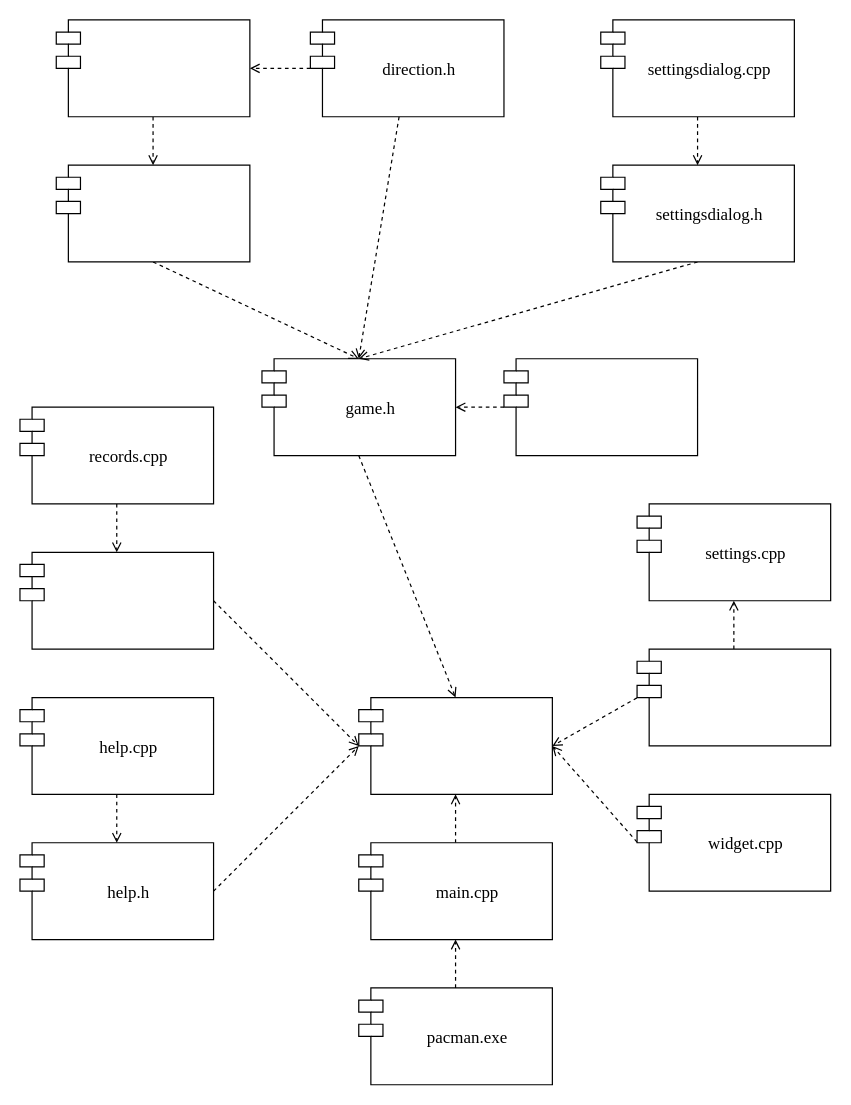
The diagram is 851 pixels wide and 1105 high, and some of its shapes have lost their labels. Here are the shapes that lost their labels. From the top down, the centre of each, then its label:
At (152,68): "movable.h".
At (152,213): "level.h".
At (600,407): "game.cpp".
At (116,600): "records.h".
At (733,697): "settings.h".
At (455,745): "widget.h".
